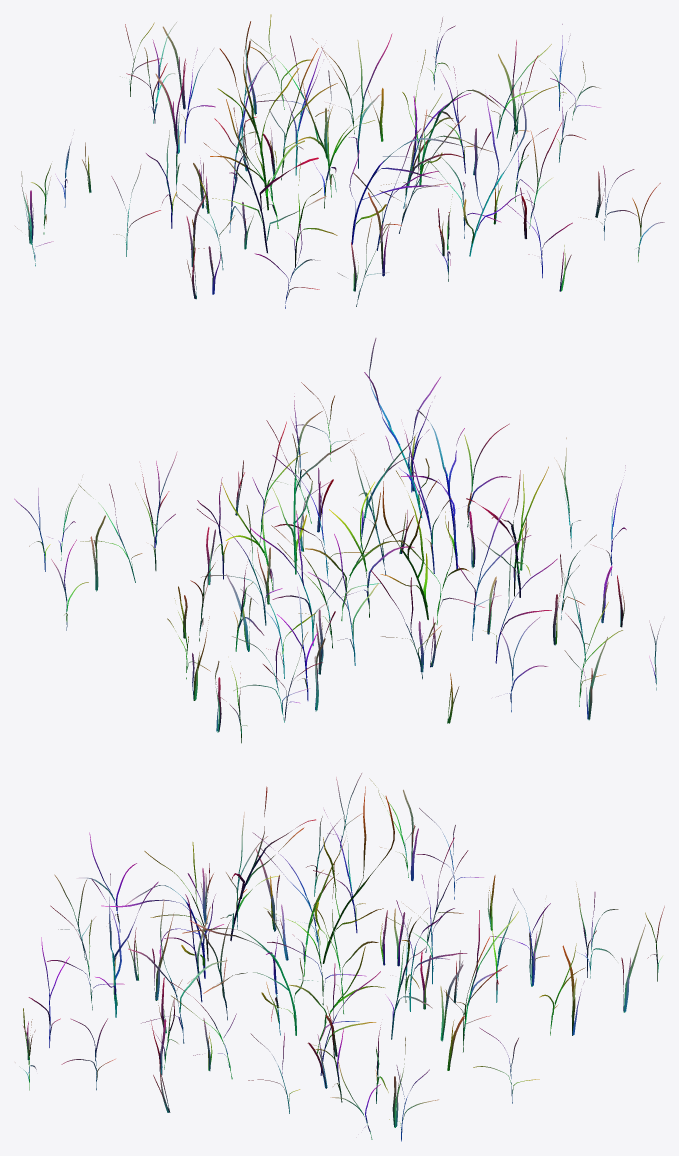
The model's file is Kikuyu_Grass_wiljearqx_High_wiljearqx_VarH_LOD0.fbx.
The picture shows the model from 3 angles, top to bottom: view 1: azimuth 30°, elevation 25°; view 2: azimuth 150°, elevation 25°; view 3: azimuth 270°, elevation 25°; orthographic projection. The views are drawn at different scales.
Visible parts, largest first — view 1: _yh3i_VarH_LOD0; view 2: _yh3i_VarH_LOD0; view 3: _yh3i_VarH_LOD0.
Boxes of the visible parts, box(x1,y1,x2,y2) form: _yh3i_VarH_LOD0: box(15, 14, 664, 308); _yh3i_VarH_LOD0: box(14, 338, 660, 743); _yh3i_VarH_LOD0: box(15, 773, 664, 1141).
Bounding box in the file's own units: 91.05 × 27.22 × 83.04.
